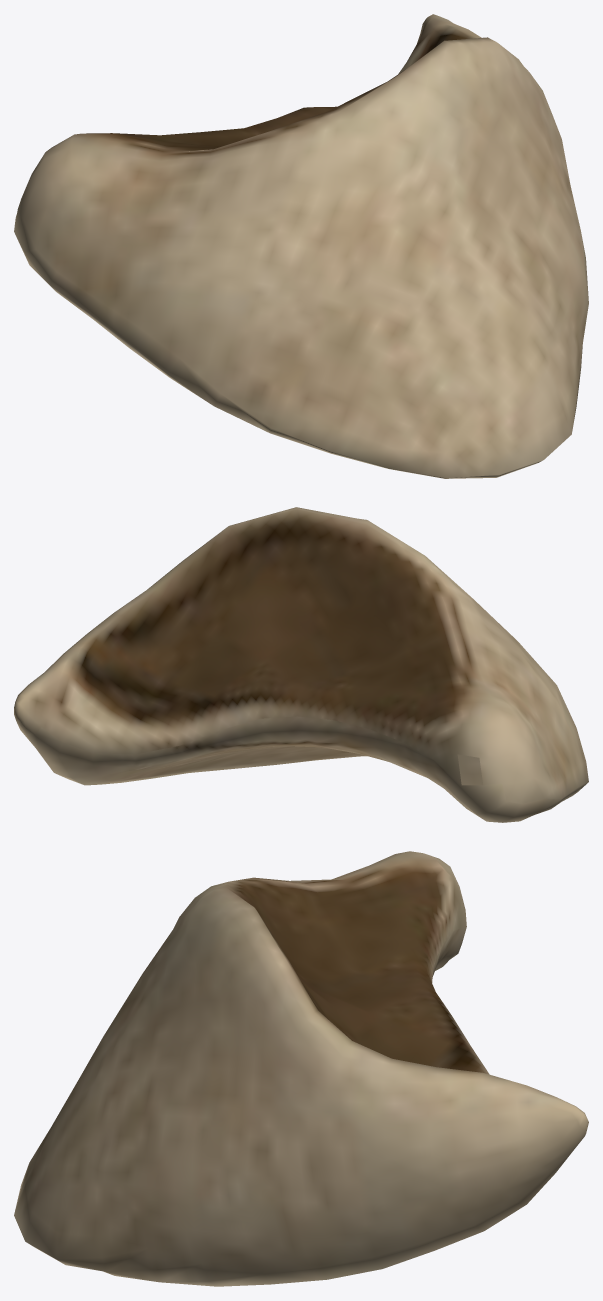
File: Coffin.glb
3 renders of one model, top to bottom at view 1: azimuth 30°, elevation 25°; view 2: azimuth 150°, elevation 25°; view 3: azimuth 270°, elevation 25°, orthographic. The views are drawn at different scales.
Visible parts, largest first — view 1: R_Bck_Coffin; view 2: R_Bck_Coffin; view 3: R_Bck_Coffin.
Boxes of the visible parts, x1=… form: R_Bck_Coffin: x1=14, y1=14, x2=588, y2=478; R_Bck_Coffin: x1=14, y1=507, x2=588, y2=822; R_Bck_Coffin: x1=14, y1=851, x2=588, y2=1286.
Size of the model in its own units: 0.0654 by 0.0407 by 0.0612.
Materials: 1 (1 with a texture image).
